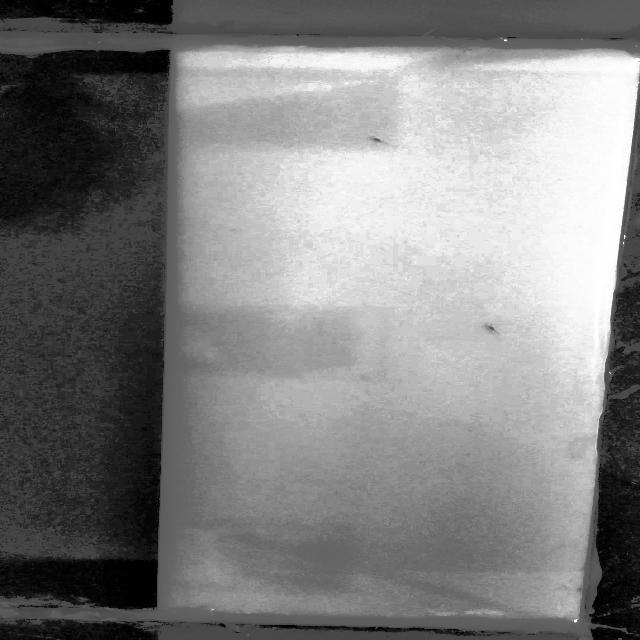shrimp: (481, 321, 504, 336), (366, 133, 390, 144)
